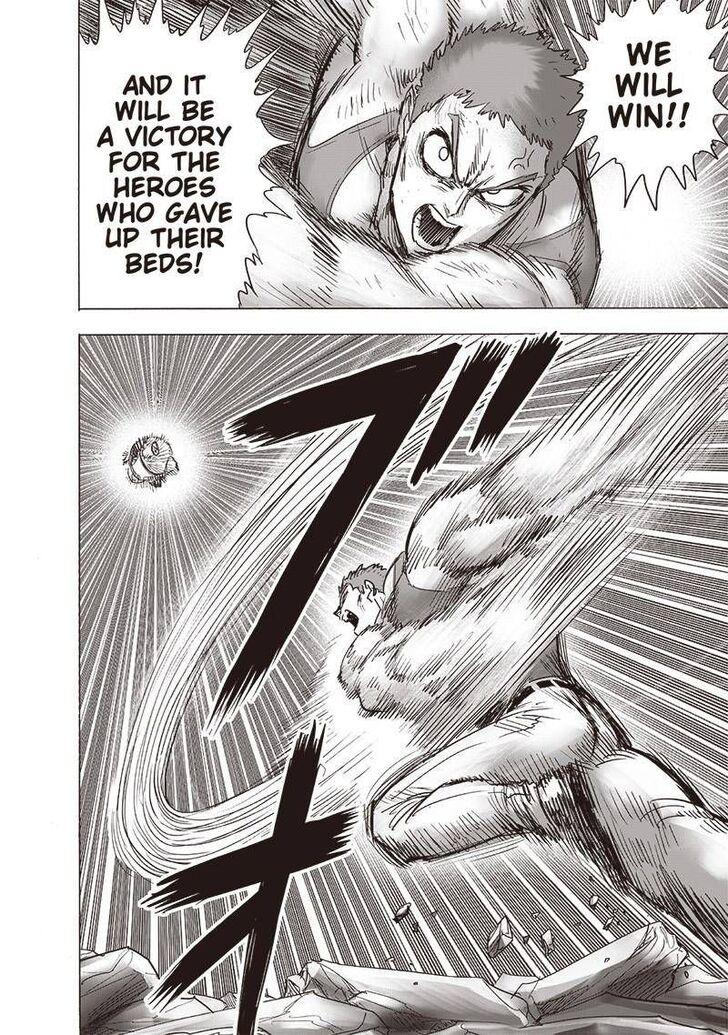Bubble: (78, 0, 298, 310), (559, 0, 728, 210)
